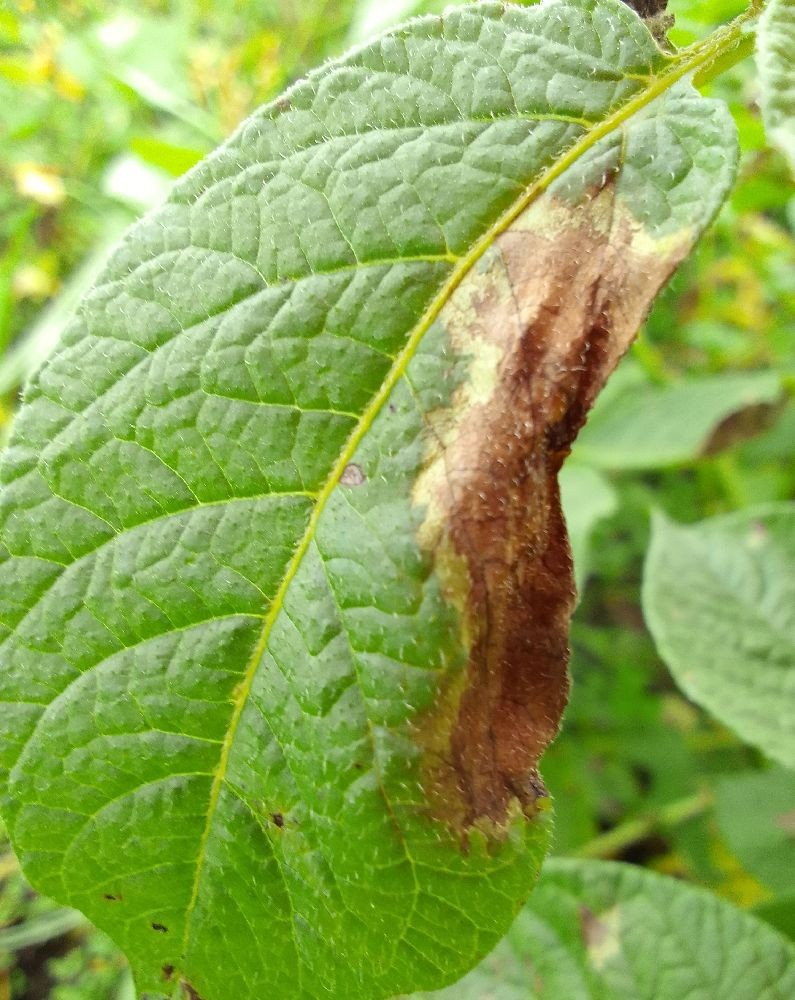late_blight: (390, 148, 718, 869), (0, 919, 96, 1000), (694, 394, 788, 468)
